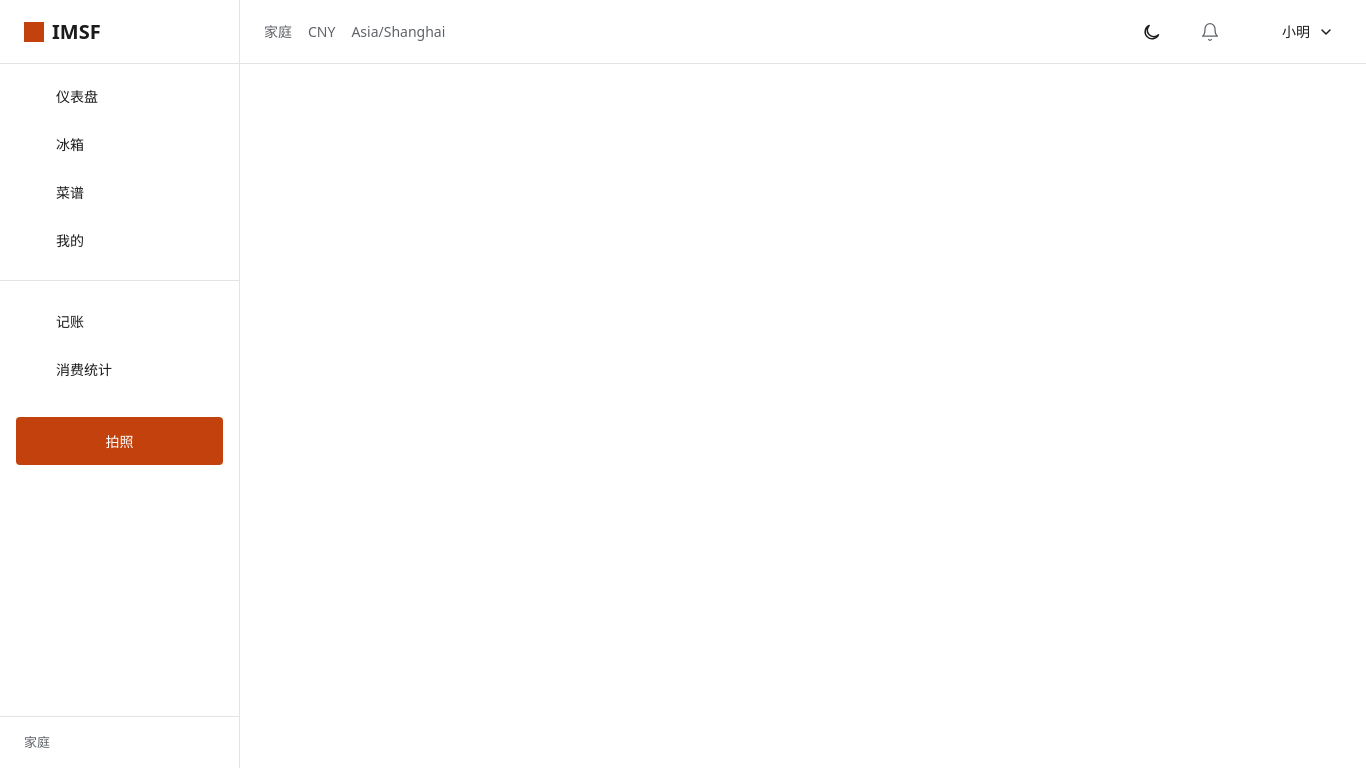
Test: AppShell account menu (header feature, Lam 2026-11-22) › click opens the menu with name + email, 我的 link and logout
Click the button "小明": (1294, 32) [1246,10,1342,54]
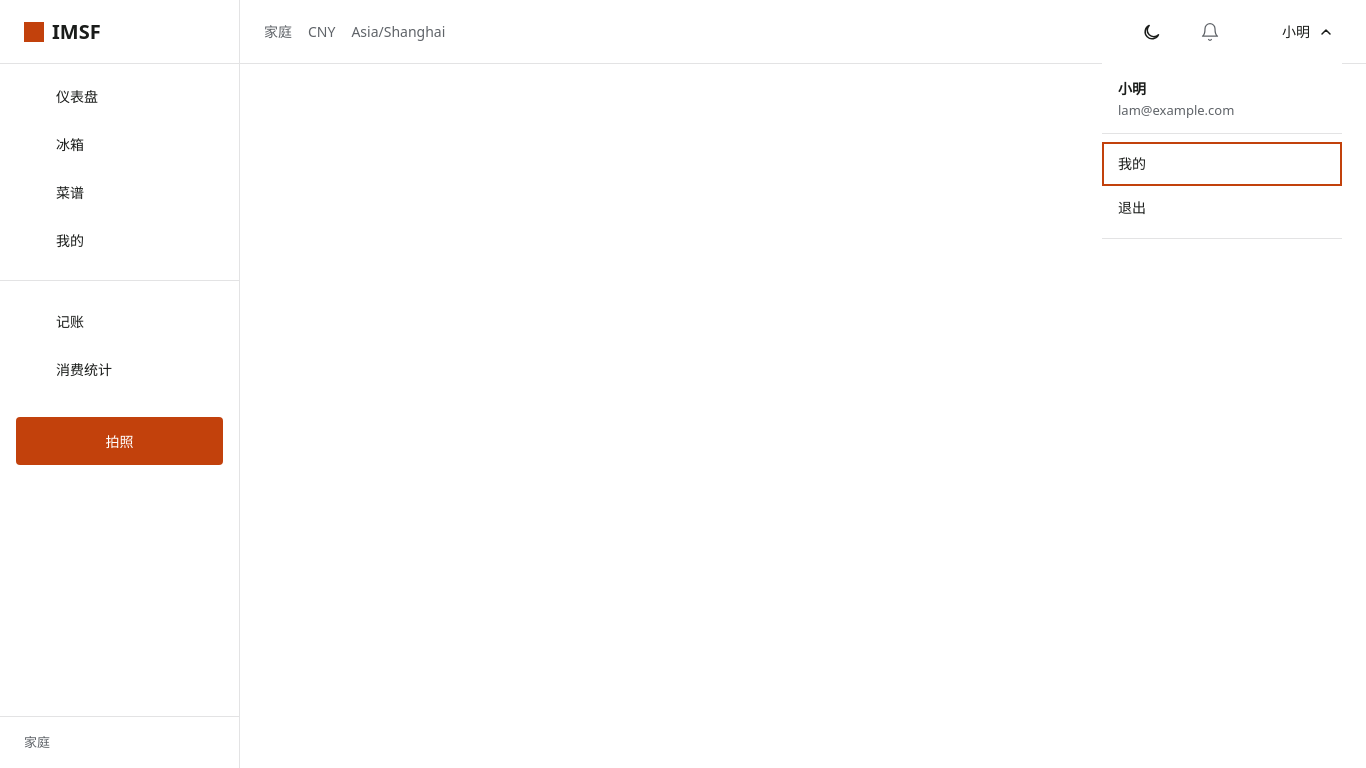
Result: the button "小明" is expanded at [1246,10,1342,54]
Result: the menu shows "小明" at [1118,79,1146,98]
Result: the menu shows "lam@example.com" at [1118,101,1234,119]
